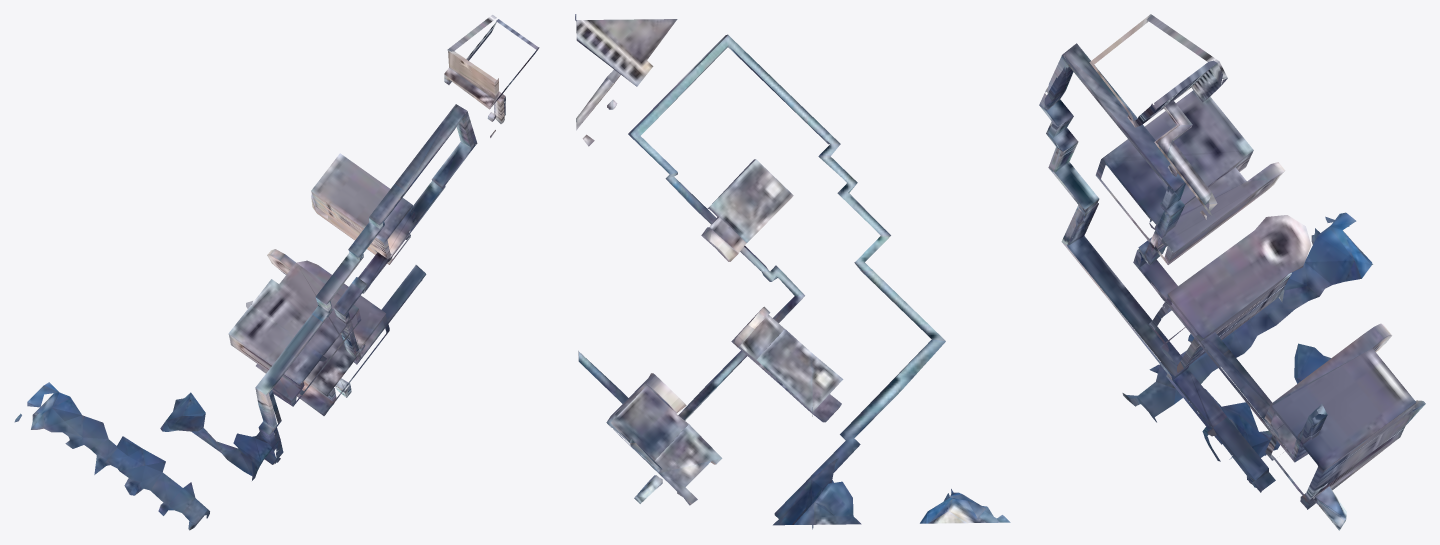
3 renders of one model, left to right at view 1: azimuth 30°, elevation 25°; view 2: azimuth 150°, elevation 25°; view 3: azimuth 270°, elevation 25°, orthographic. The views are drawn at different scales.
Size of the model in its own units: 43.6 by 37.08 by 22.77.
Materials: 1 (1 with a texture image).
